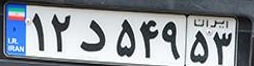character: (76, 16, 110, 56), (48, 8, 76, 54), (111, 14, 138, 60), (136, 13, 161, 61), (159, 18, 183, 62), (27, 8, 47, 56), (188, 28, 212, 66), (212, 29, 236, 66)
